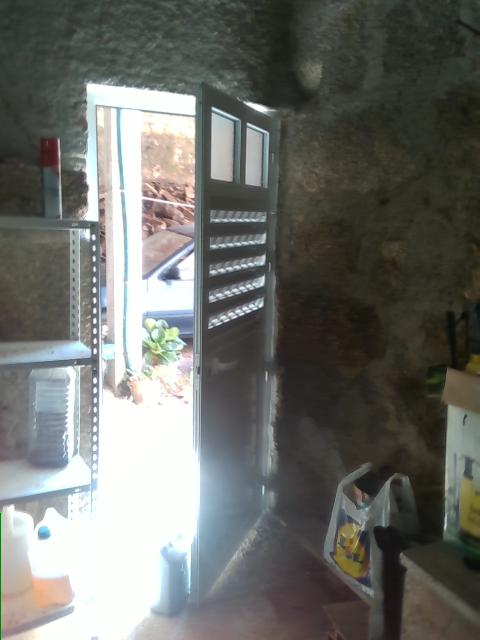semi_door: (85, 79, 285, 605)
